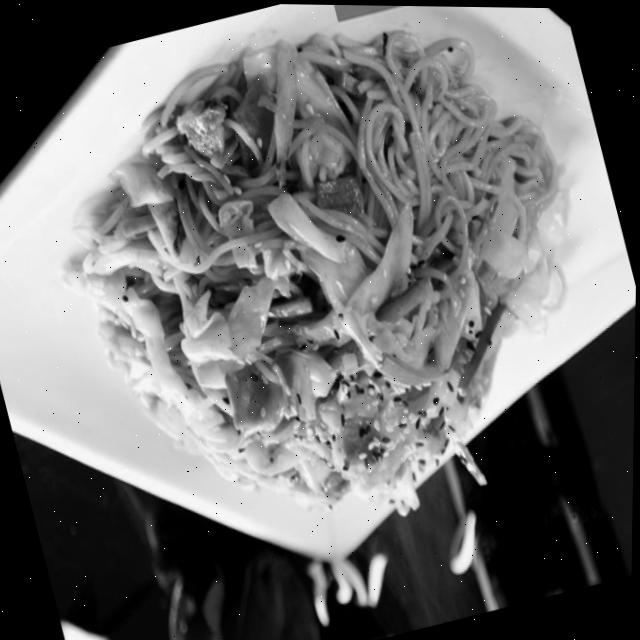面条主食: (16, 0, 632, 598)
